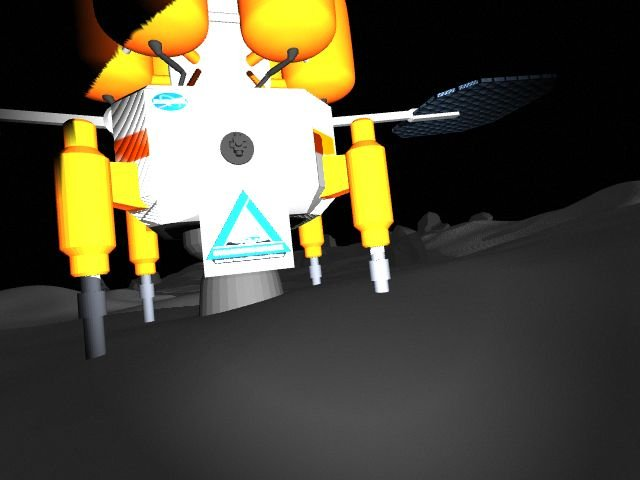basemarker: (205, 189, 292, 265)
